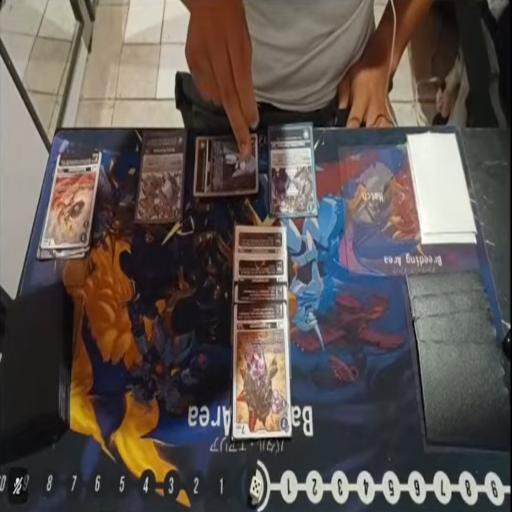card: (232, 301, 291, 440), (40, 153, 101, 254), (135, 132, 186, 223), (268, 124, 317, 217), (193, 133, 258, 196), (234, 254, 287, 282), (234, 225, 286, 252), (234, 281, 287, 303)
